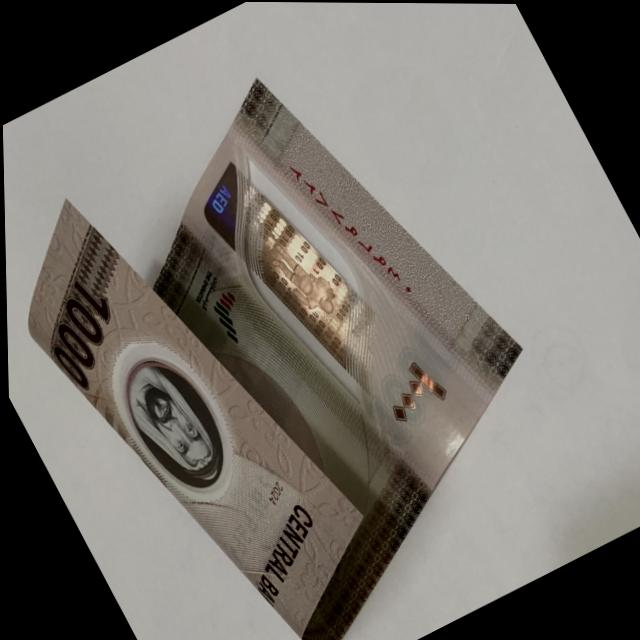1000_AED: (27, 68, 529, 640)
